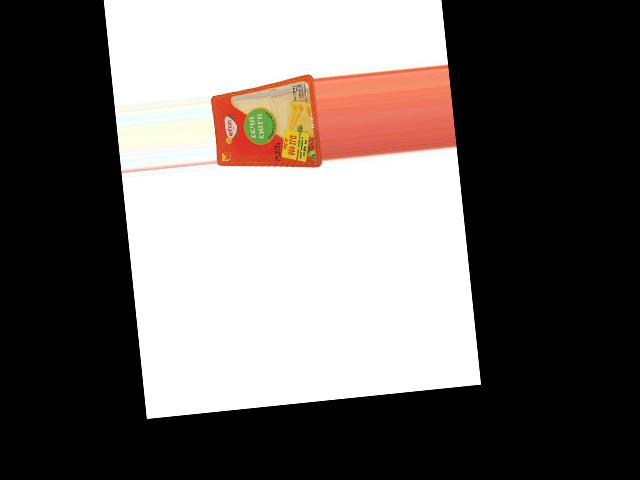cheese: (209, 74, 323, 177)
